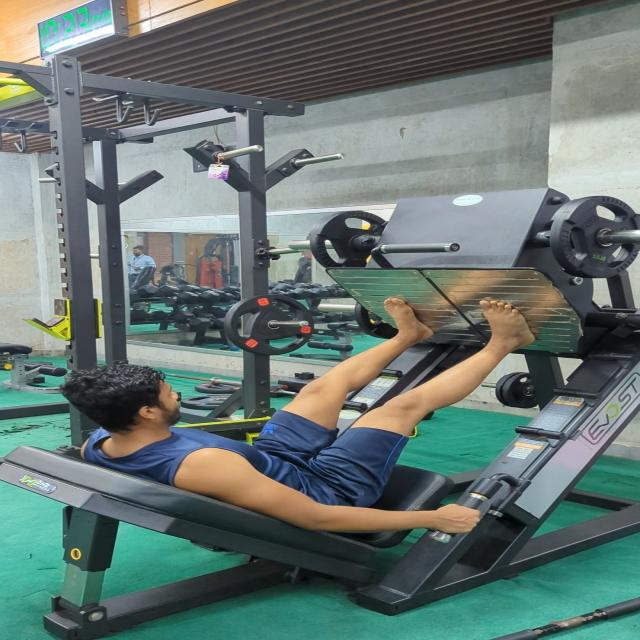Normal_LegPress: (42, 292, 551, 540)
